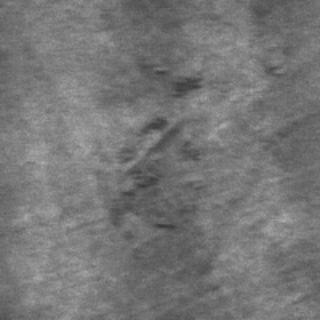rolled pit: (106, 97, 204, 250), (126, 50, 207, 114)
